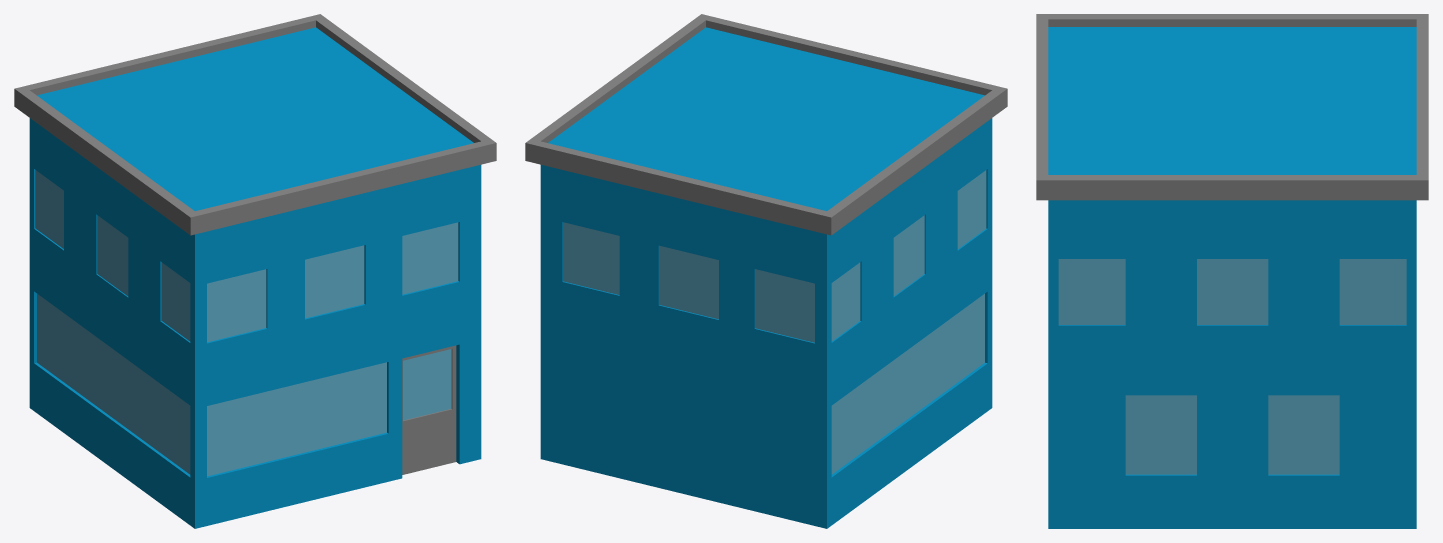
The model's file is building_4.fbx.
The picture shows the model from 3 angles, left to right: view 1: azimuth 30°, elevation 25°; view 2: azimuth 150°, elevation 25°; view 3: azimuth 270°, elevation 25°; orthographic projection. The views are drawn at different scales.
Visible parts, largest first — view 1: building_4; view 2: building_4; view 3: building_4.
Boxes of the visible parts, x1=… form: building_4: x1=14, y1=14, x2=496, y2=528; building_4: x1=525, y1=14, x2=1007, y2=528; building_4: x1=1036, y1=14, x2=1428, y2=528.
Size of the model in its own units: 534 by 530 by 533.
